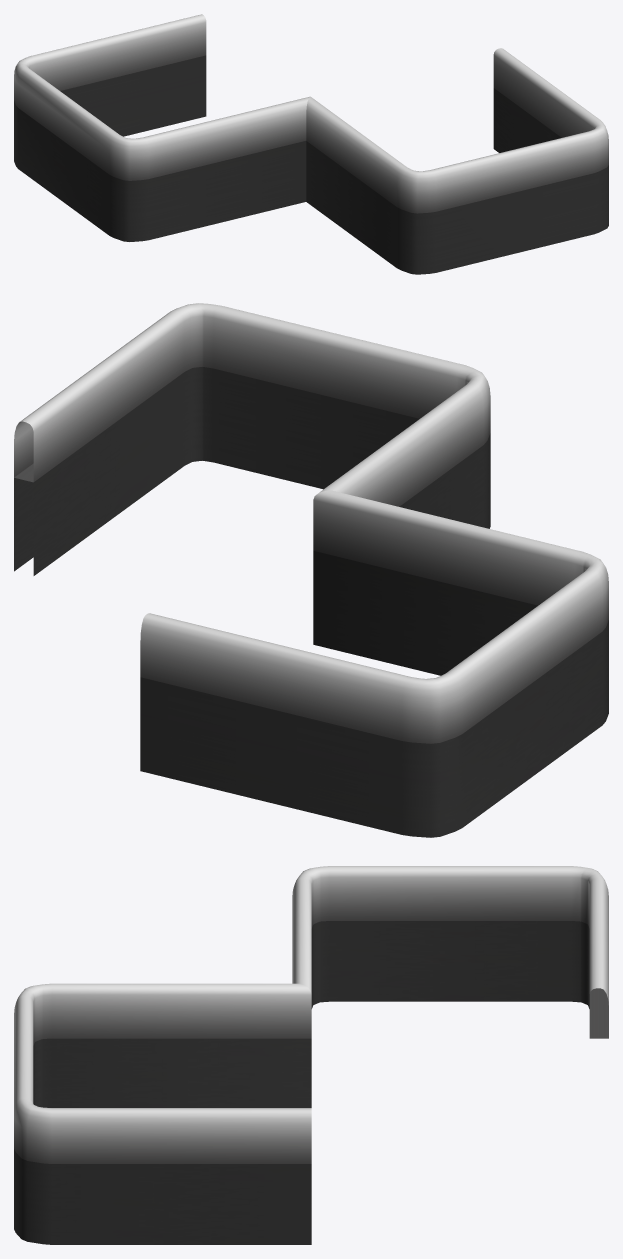
3 renders of one model, top to bottom at view 1: azimuth 30°, elevation 25°; view 2: azimuth 150°, elevation 25°; view 3: azimuth 270°, elevation 25°, orthographic. The views are drawn at different scales.
Parts seen in each view (by area): view 1: PLANE, PieceType5; view 2: PLANE, PieceType5; view 3: PLANE, PieceType5.
Part boxes in pixels (x1=…): PLANE: x1=14, y1=55, x2=608, y2=274; PieceType5: x1=14, y1=14, x2=608, y2=213; PLANE: x1=14, y1=367, x2=608, y2=837; PieceType5: x1=14, y1=303, x2=608, y2=743; PLANE: x1=14, y1=921, x2=589, y2=1244; PieceType5: x1=14, y1=866, x2=608, y2=1163.
Bounding box in the file's own units: 214 × 51.97 × 214.
